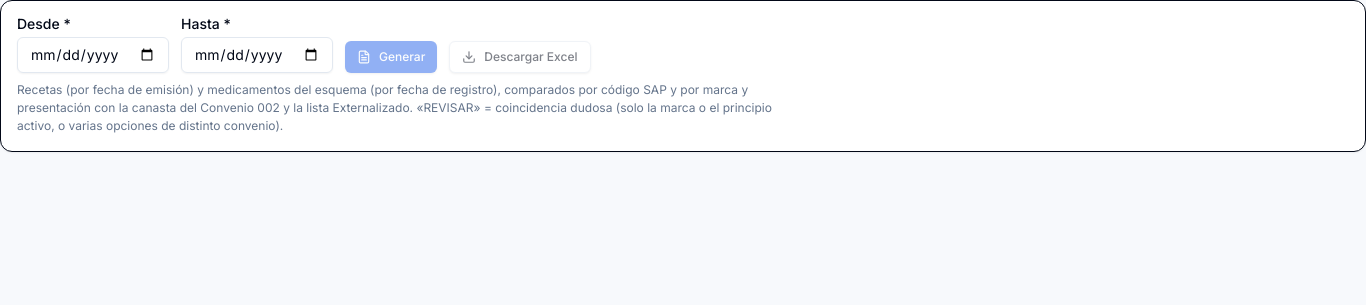
Test: ExternalizadoReporte › muestra cada fármaco con su clasificación, el detalle y el resumen
The image size is (1366, 305).
Type "2031-05-01" into the date field labelled "Desde *" at {"x": 93, "y": 55}, box [17,37,169,73]
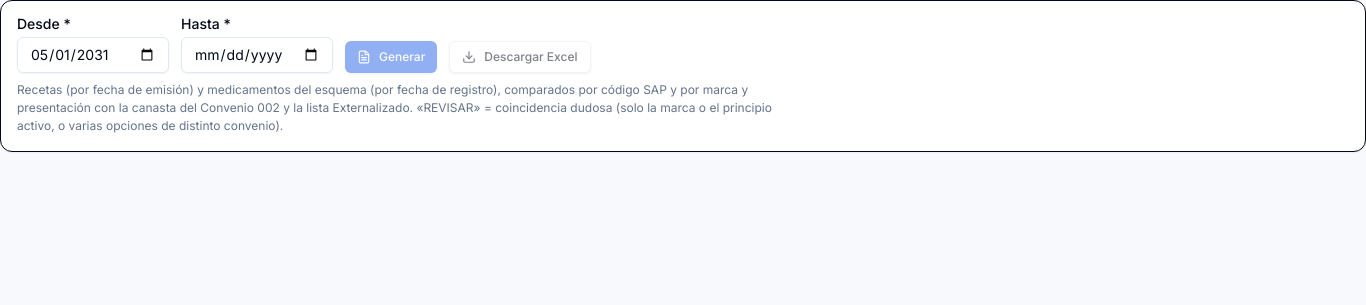
Type "2031-05-31" into the date field labelled "Hasta *" at {"x": 257, "y": 55}, box [181,37,333,73]
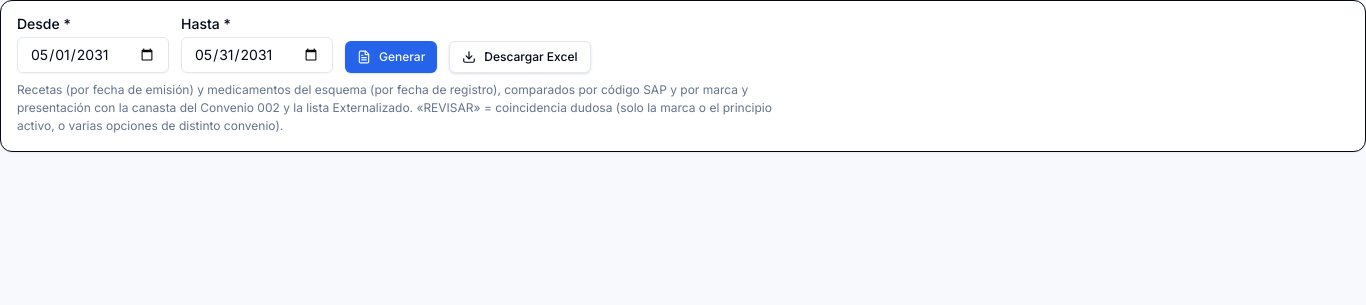
Click the button with test id "btn-generar-externalizado" at {"x": 391, "y": 57}, box [345,41,437,73]
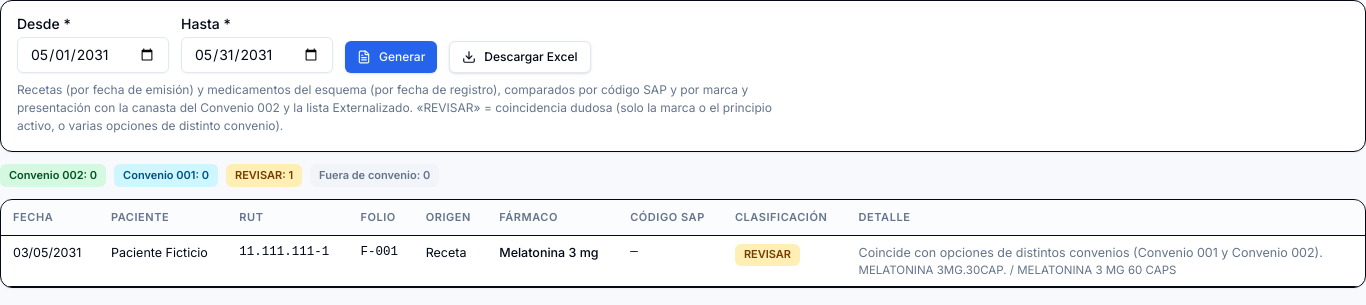
Check: the text "Melatonina 3 mg" is shown, box [499,244,606,262]
Check: the text "Paciente Ficticio" is shown, box [99,236,227,287]
Check: the text "MELATONINA 3MG.30CAP. / MELATONINA 3 MG 60 CAPS" is shown, box [858,263,1176,277]
